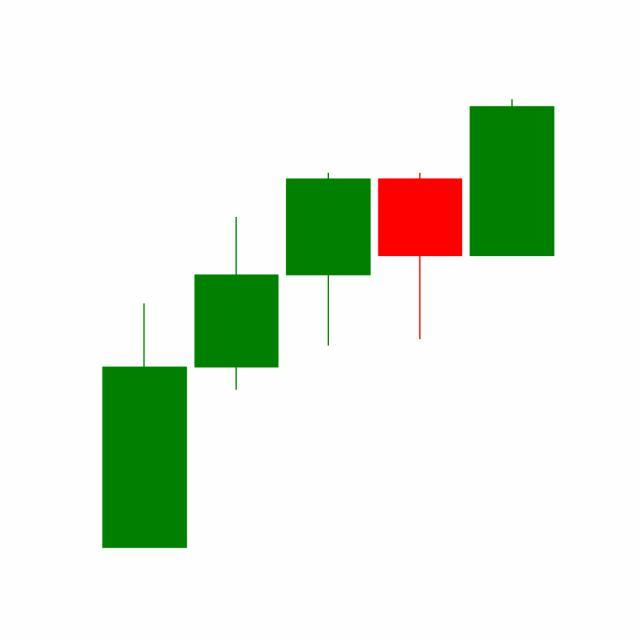Marubozu: (466, 99, 559, 259)
